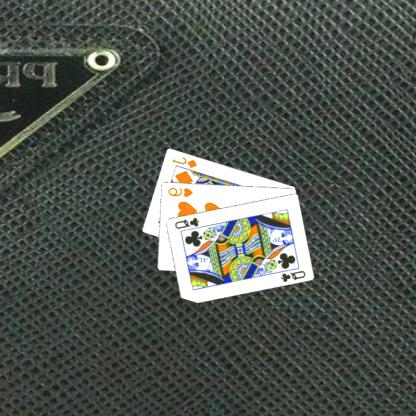9H: (167, 185, 195, 198)
JD: (171, 154, 200, 170)
QC: (173, 215, 202, 230), (280, 268, 308, 283)
